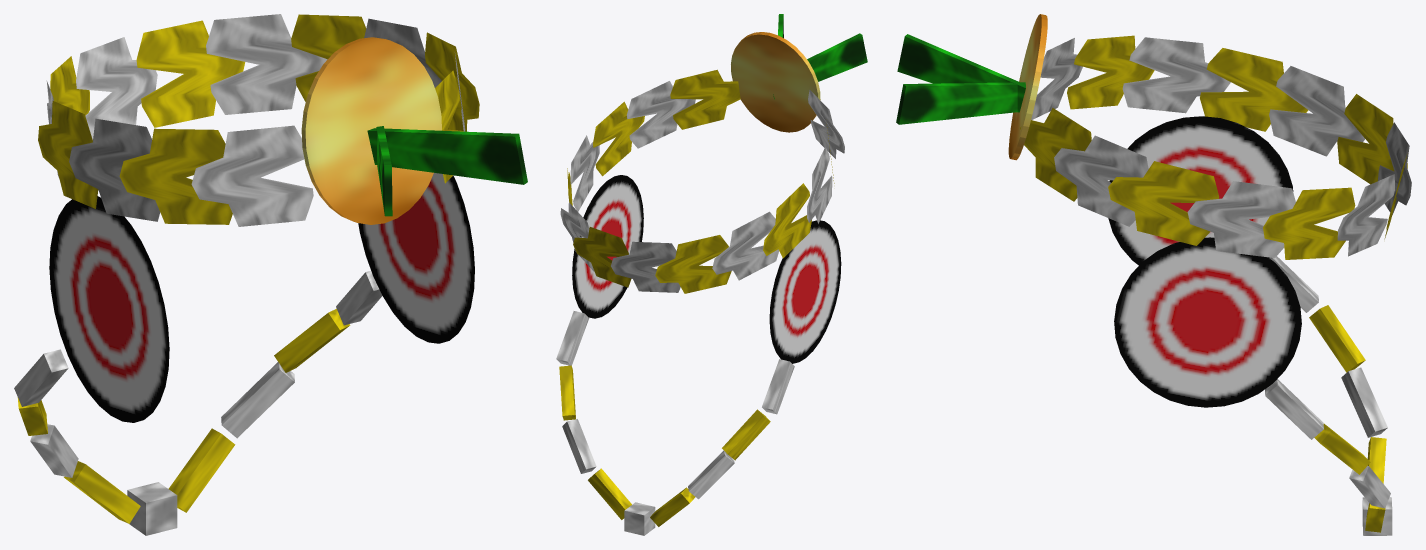
Rendered from helmet_maya_q_1.dae.
3 renders of one model, left to right at view 1: azimuth 30°, elevation 25°; view 2: azimuth 150°, elevation 25°; view 3: azimuth 270°, elevation 25°, orthographic. The views are drawn at different scales.
Visible parts, largest first — view 1: helmet_maya_q_1; view 2: helmet_maya_q_1; view 3: helmet_maya_q_1.
Part boxes in pixels (x1,y1,x2,y2): helmet_maya_q_1: (14, 14, 527, 535); helmet_maya_q_1: (556, 14, 867, 535); helmet_maya_q_1: (896, 14, 1411, 535).
Size of the model in its own units: 0.5378 by 0.8391 by 0.9175.
